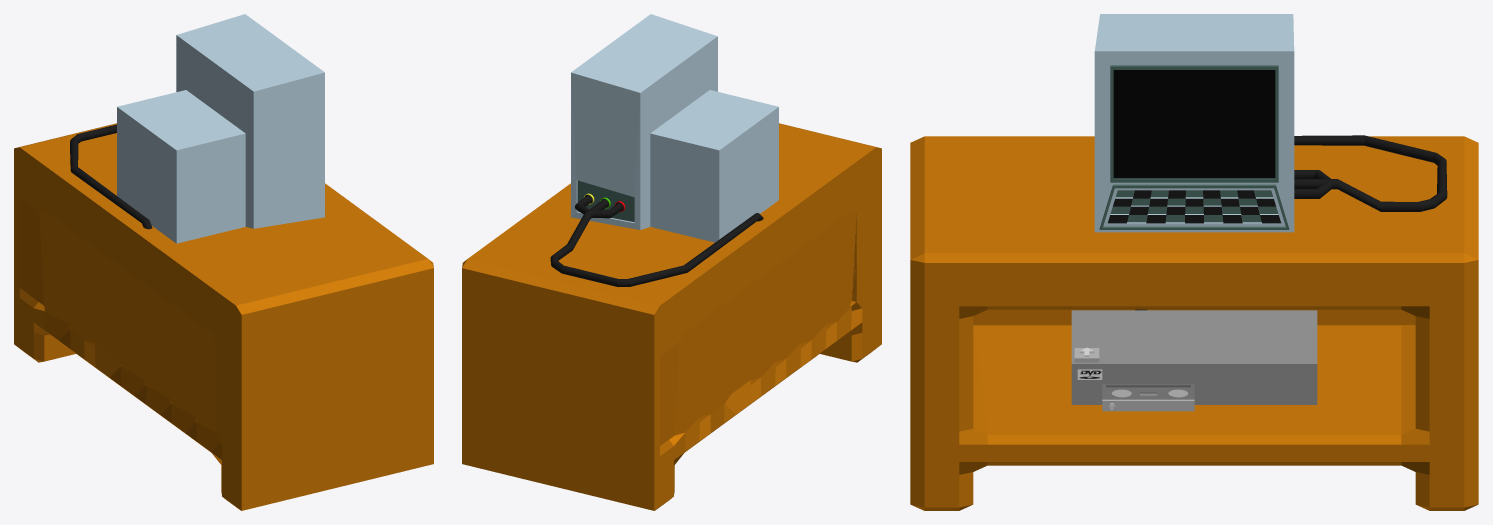
Rendered from telikDVD.fbx.
3 renders of one model, left to right at view 1: azimuth 30°, elevation 25°; view 2: azimuth 150°, elevation 25°; view 3: azimuth 270°, elevation 25°, orthographic. The views are drawn at different scales.
Visible parts, largest first — view 1: Cube, Cube.001; view 2: Cube, Cube.001; view 3: Cube, Cube.001, Cube.002, Cube.004.
Part boxes in pixels (x1,y1,x2,y2): Cube: (14, 123, 433, 510); Cube.001: (70, 14, 325, 243); Cube: (462, 123, 881, 510); Cube.001: (550, 14, 778, 286); Cube: (910, 136, 1478, 510); Cube.001: (1094, 14, 1447, 232); Cube.002: (1071, 309, 1317, 404); Cube.004: (1102, 384, 1194, 411).
Size of the model in its own units: 200 by 340 by 400.
19 materials, 1 textured.
